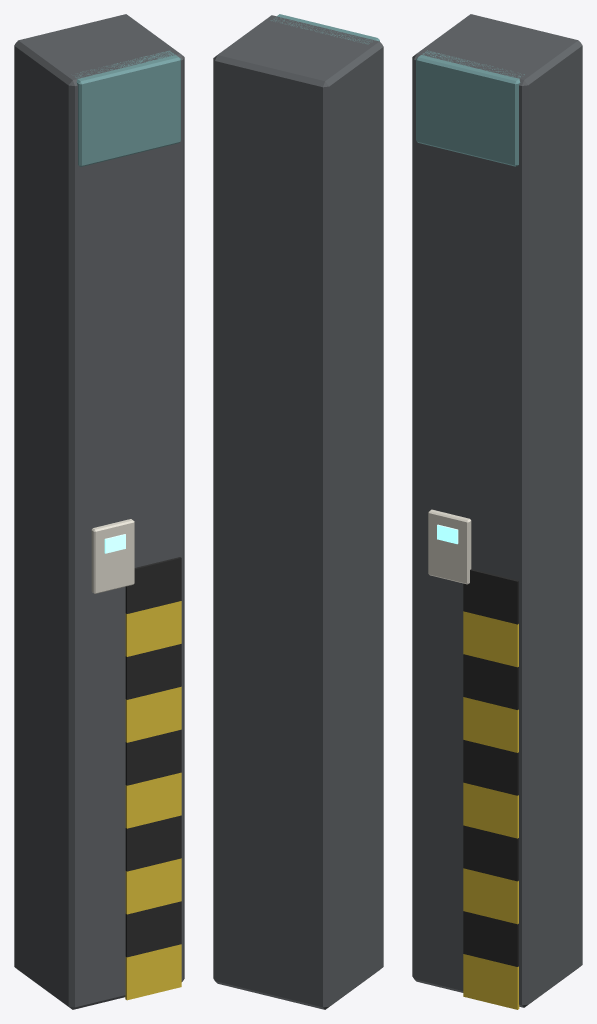
Rendered from door_jamb.glb.
3 renders of one model, left to right at view 1: azimuth 30°, elevation 25°; view 2: azimuth 150°, elevation 25°; view 3: azimuth 330°, elevation 25°, orthographic.
Parts seen in each view (by area): view 1: door_jamb; view 2: door_jamb; view 3: door_jamb.
Boxes of the visible parts, x1,y1,x2,y2 form: door_jamb: [14, 14, 184, 1009]; door_jamb: [213, 14, 383, 1009]; door_jamb: [412, 14, 582, 1009].
Bounding box in the file's own units: 0.34 × 2.6 × 0.319.
